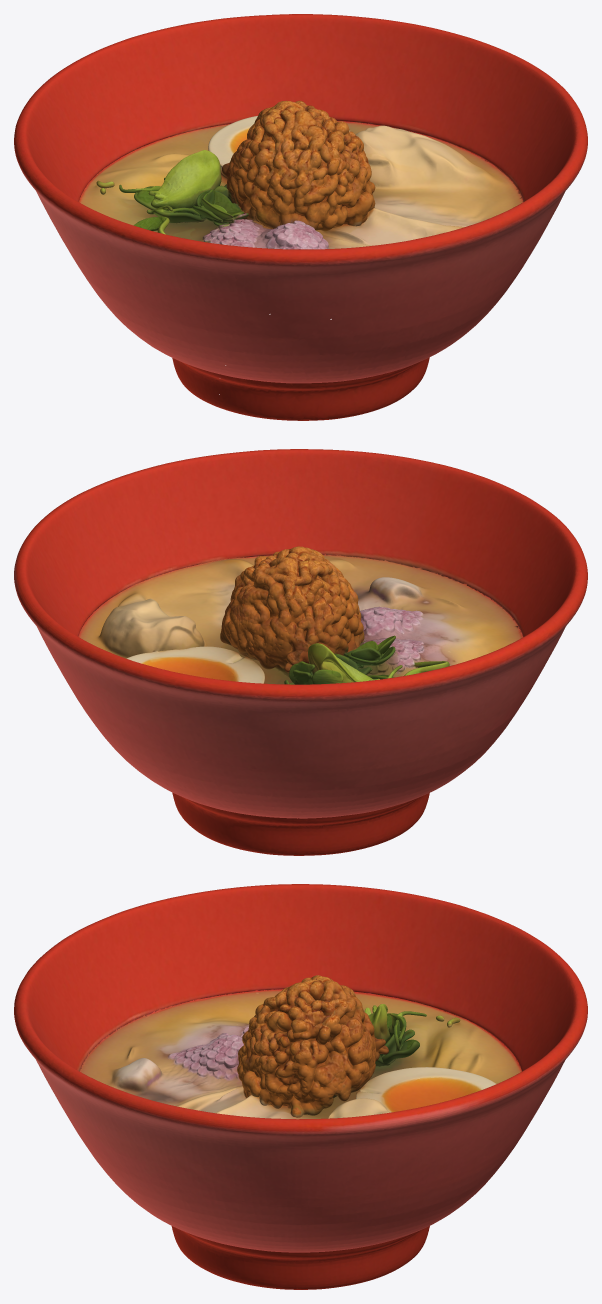
The model's file is KaramisoRamen.glb.
3 views of the same model, one above another, from view 1: azimuth 30°, elevation 25°; view 2: azimuth 150°, elevation 25°; view 3: azimuth 270°, elevation 25° (orthographic).
Visible parts, largest first — view 1: tripo_node_02b20587-4a6d-4d5f-bca5-b1d62fa2ea11; view 2: tripo_node_02b20587-4a6d-4d5f-bca5-b1d62fa2ea11; view 3: tripo_node_02b20587-4a6d-4d5f-bca5-b1d62fa2ea11.
Part boxes in pixels (box(x1,y1,x2,y2)): tripo_node_02b20587-4a6d-4d5f-bca5-b1d62fa2ea11: box(14, 14, 587, 420); tripo_node_02b20587-4a6d-4d5f-bca5-b1d62fa2ea11: box(14, 449, 587, 855); tripo_node_02b20587-4a6d-4d5f-bca5-b1d62fa2ea11: box(14, 884, 587, 1289).
Size of the model in its own units: 0.2975 by 0.1477 by 0.2977.
1 material, 1 textured.
